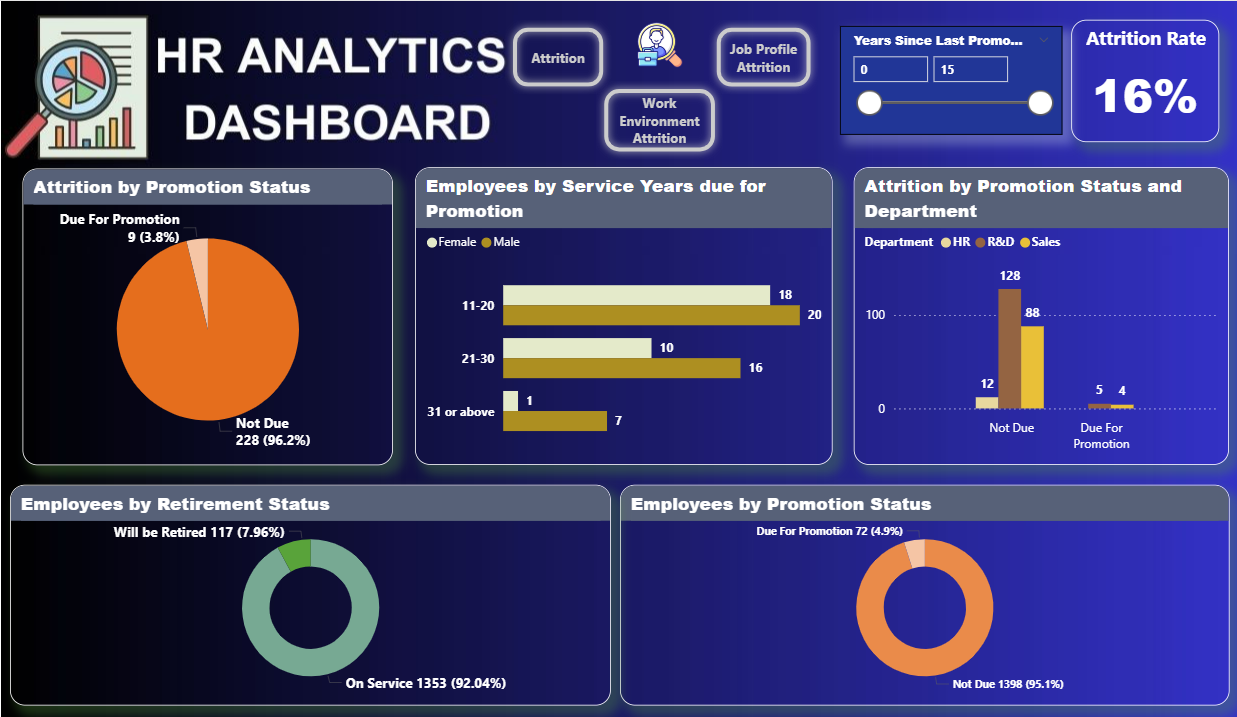

The dashboard page shown, as its layout file describes it:
{"tool":"powerbi","page":{"name":"Promotion and Retirement Attrition","canvas":[1280,720],"ordinal":3},"visuals":[{"type":"donutChart","title":"Employees by Promotion Status","fields":{"Y":["Measurements.# Employees"],"Category":["Dim_Employees Department.Promotion Status"]},"box":[639.4,483.8,609.3,220.8],"z":0},{"type":"clusteredBarChart","title":"Employees by Service Years due for Promotion","fields":{"Category":["Fact_HR Attrition.Service Years"],"Series":["Dim_Employees.Gender"],"Y":["Measurements.Due For Promotion"]},"box":[435.5,166.5,417.4,298],"z":1000},{"type":"donutChart","title":"Employees by Retirement Status","fields":{"Category":["Fact_HR Attrition.Retirement Status"],"Y":["Measurements.# Employees"]},"box":[30.2,483.8,600.8,220.8],"z":2000},{"type":"actionButton","box":[524.8,19.3,106.2,74.8],"z":3000},{"type":"pieChart","title":"Attrition by Promotion Status","fields":{"Category":["Dim_Employees Department.Promotion Status"],"Y":["Measurements.# Attrition"]},"box":[42.2,167.7,370.4,296.8],"z":4000},{"type":"card","title":"Attrition Rate","fields":{"Values":["Measurements.% Attrition"]},"box":[1091.5,19,147.8,122.5],"z":5000},{"type":"slicer","fields":{"Values":["Dim_Employees Department.Years Since Last Promotion"]},"box":[859.8,25.5,222,108.9],"z":6000},{"type":"clusteredColumnChart","title":"Attrition by Promotion Status and Department","fields":{"Category":["Dim_Employees Department.Promotion Status"],"Series":["Dim_Employees Department.Department"],"Y":["Measurements.# Attrition"]},"box":[873.5,166.5,375.2,298],"z":7000},{"type":"image","box":[631,0,97.7,88.1],"z":8000},{"type":"actionButton","box":[728.7,19.3,109.8,74.8],"z":9000},{"type":"actionButton","box":[616.5,79.6,126.7,78.4],"z":10000}]}

Visuals, with their boxes in screenshot pixels (x1, y1, x2, y2), scaled from the page's 1280x720 canvas onto the 1237x717 screenshot:
"Employees by Promotion Status" donutChart: 618 482 1207 702
"Employees by Service Years due for Promotion" clusteredBarChart: 421 166 824 463
"Employees by Retirement Status" donutChart: 29 482 610 702
actionButton: 507 19 610 94
"Attrition by Promotion Status" pieChart: 41 167 399 463
"Attrition Rate" card: 1055 19 1198 141
slicer - Dim_Employees Department.Years Since Last Promotion: 831 25 1045 134
"Attrition by Promotion Status and Department" clusteredColumnChart: 844 166 1207 463
image: 610 0 704 88
actionButton: 704 19 810 94
actionButton: 596 79 718 157
